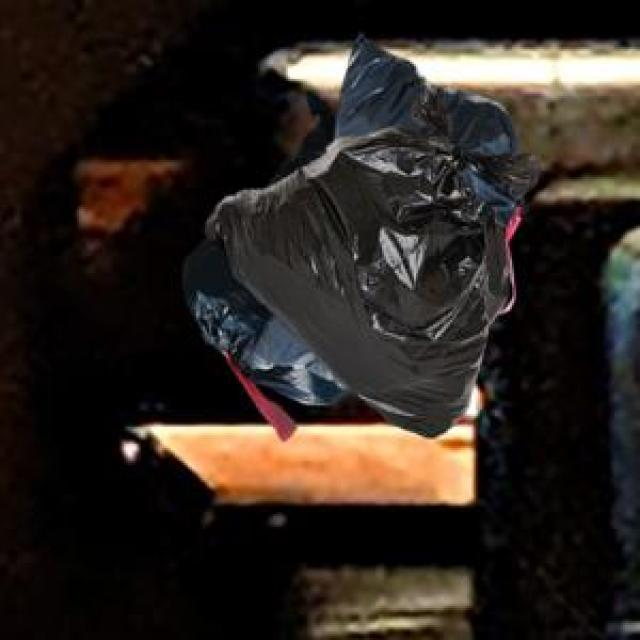Vinyl: (186, 36, 536, 436)
